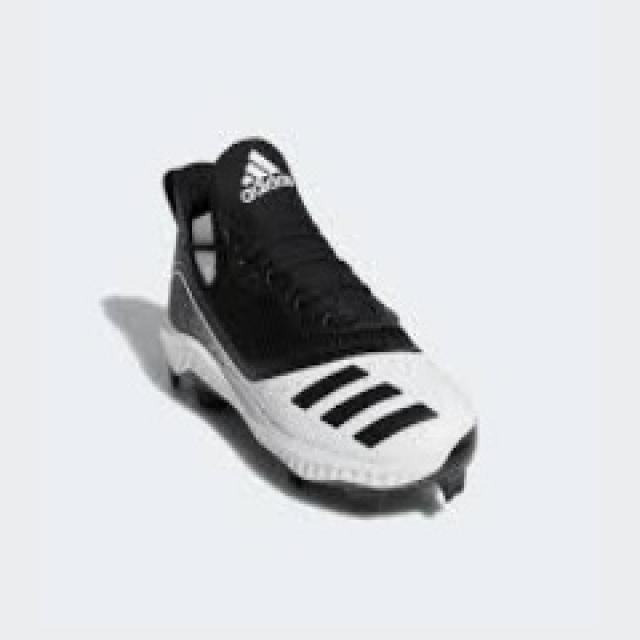shoes: (157, 142, 493, 534)
